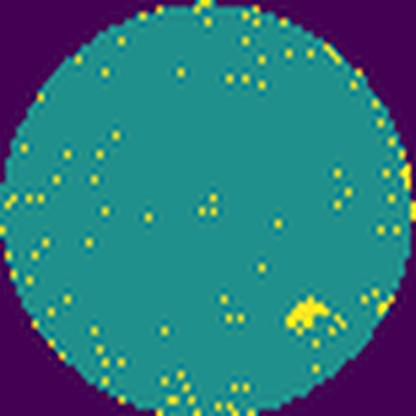Loc: (282, 293, 336, 330)
